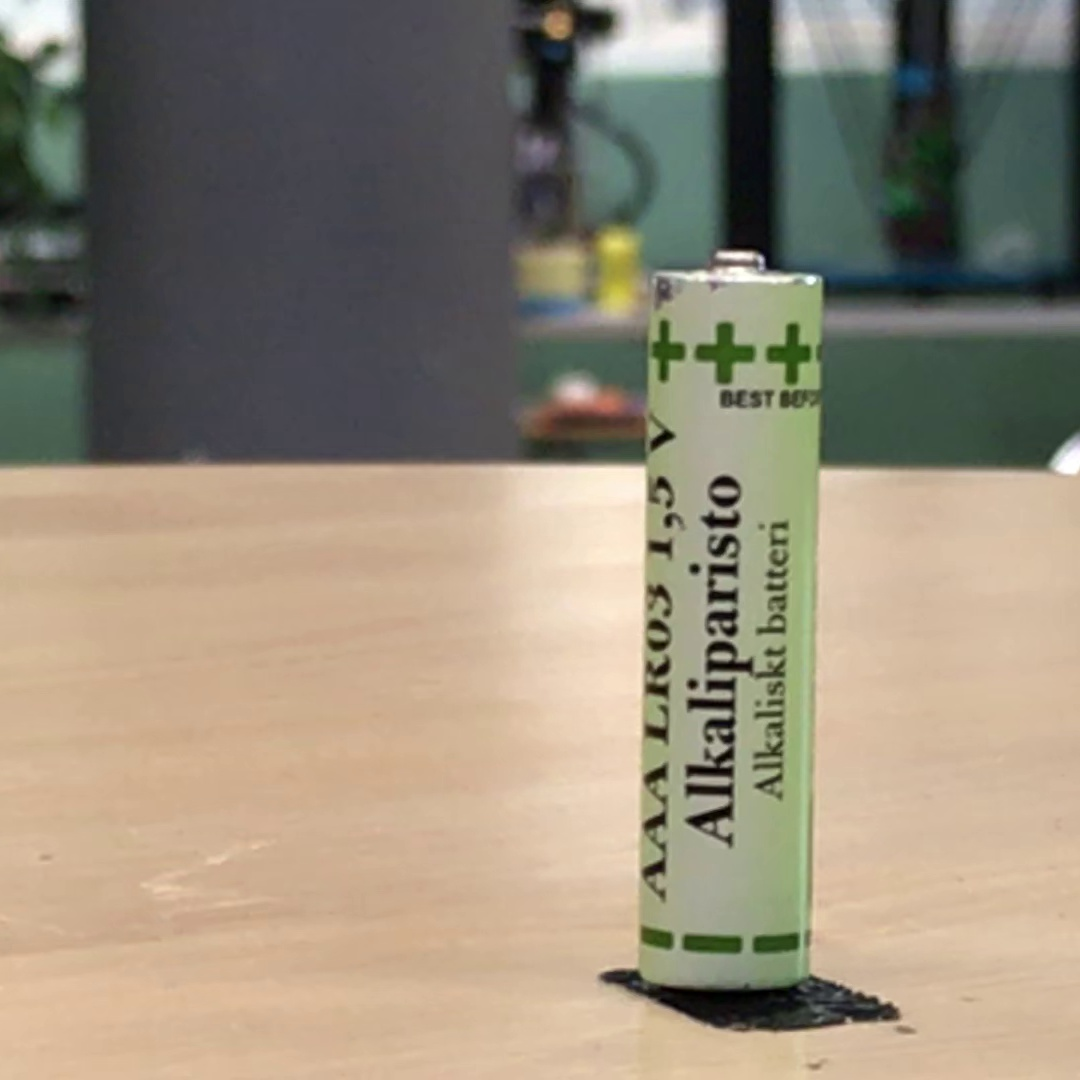keyword: (674, 772, 744, 858)
